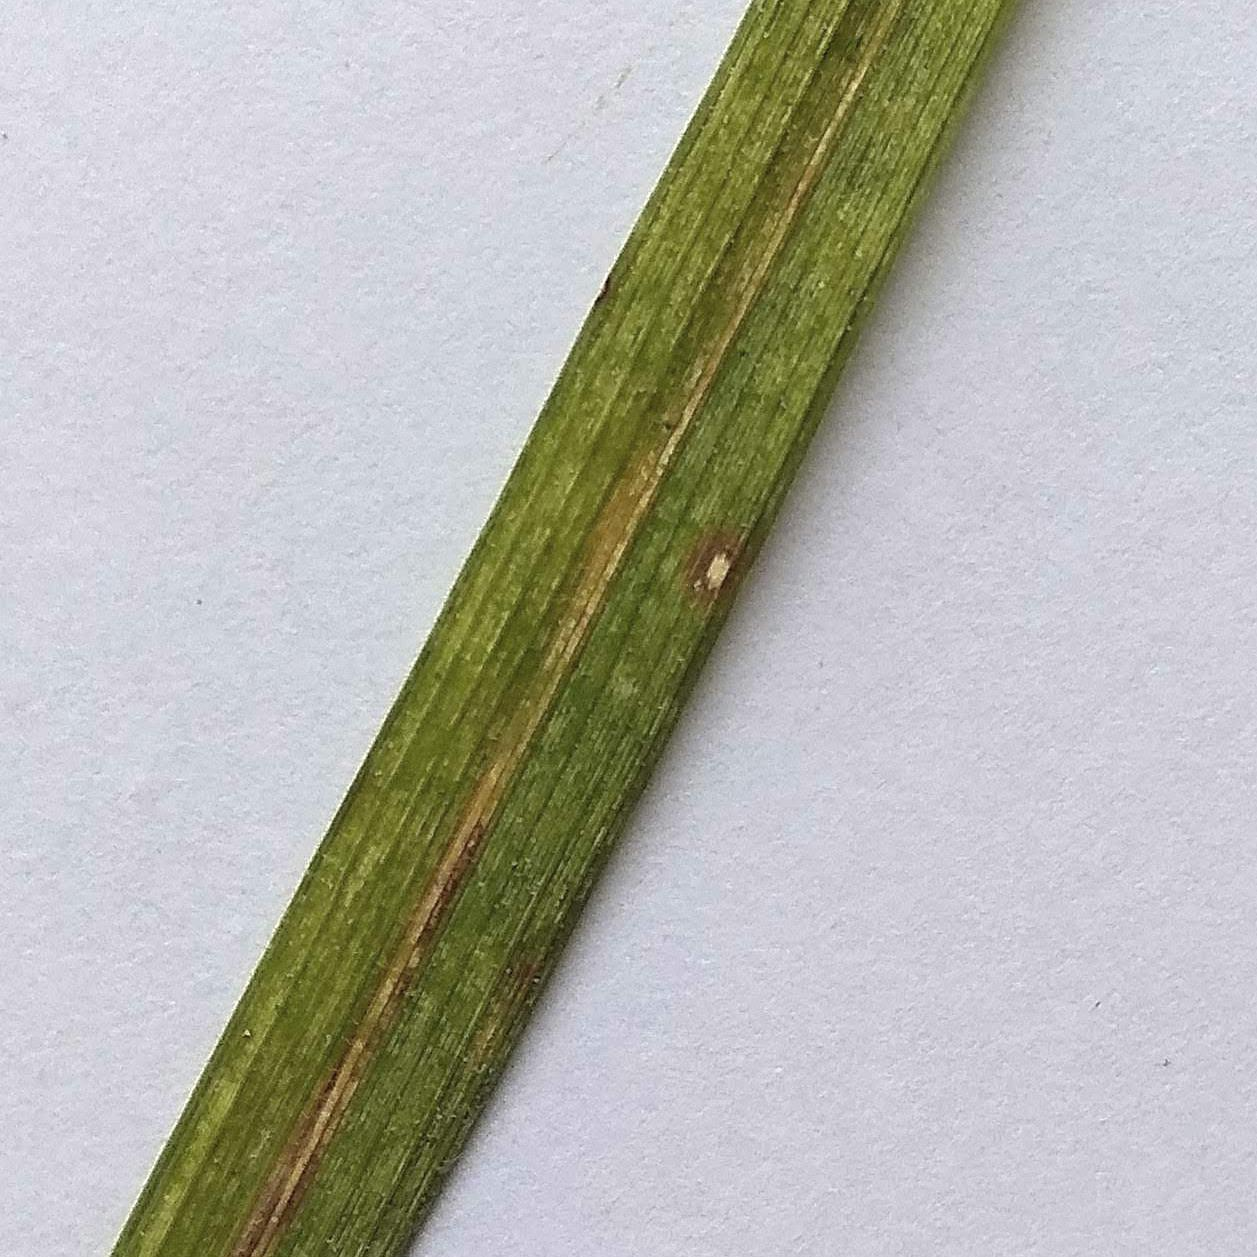1 RiceBlast: (664, 492, 759, 608)
